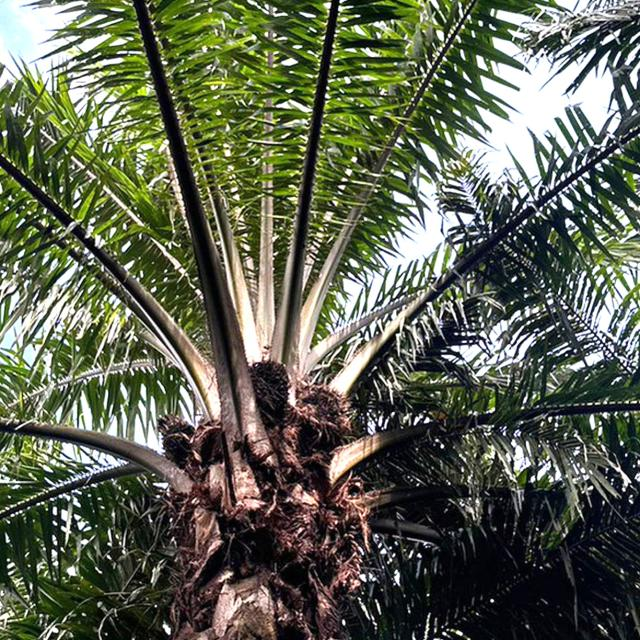almost: (299, 376, 355, 442)
